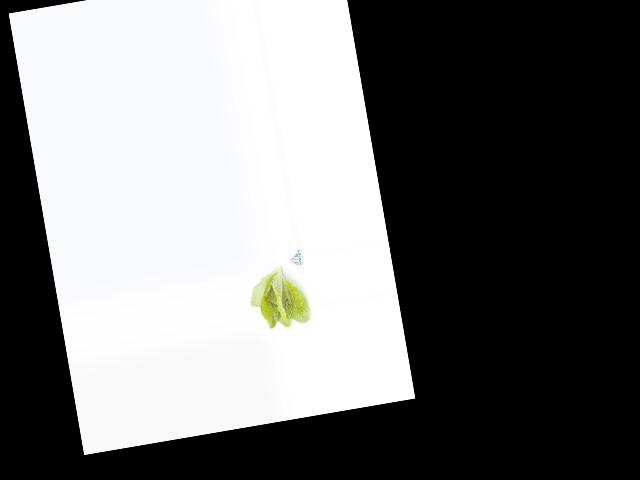lettuce: (244, 262, 311, 334)
